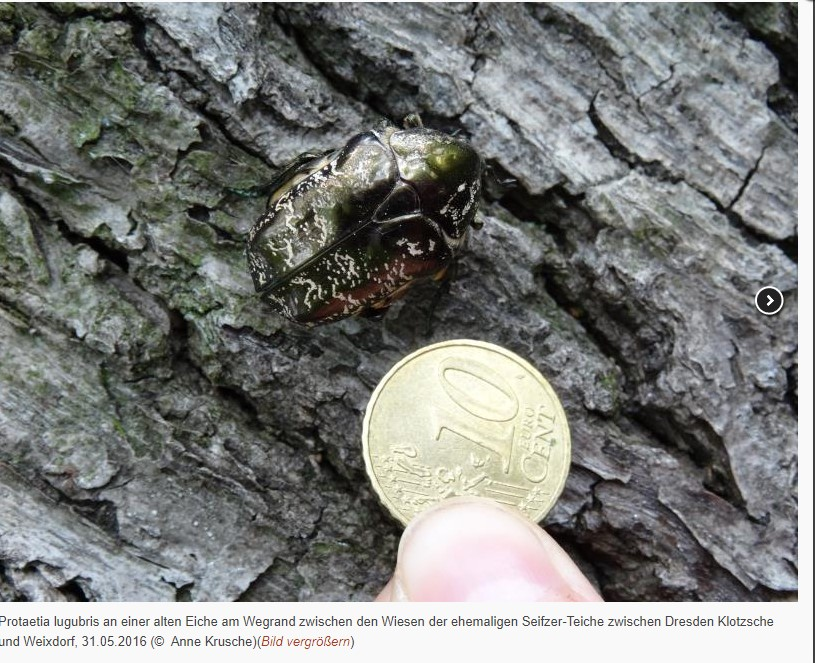Protaetia_lugubris: (236, 117, 519, 348)
